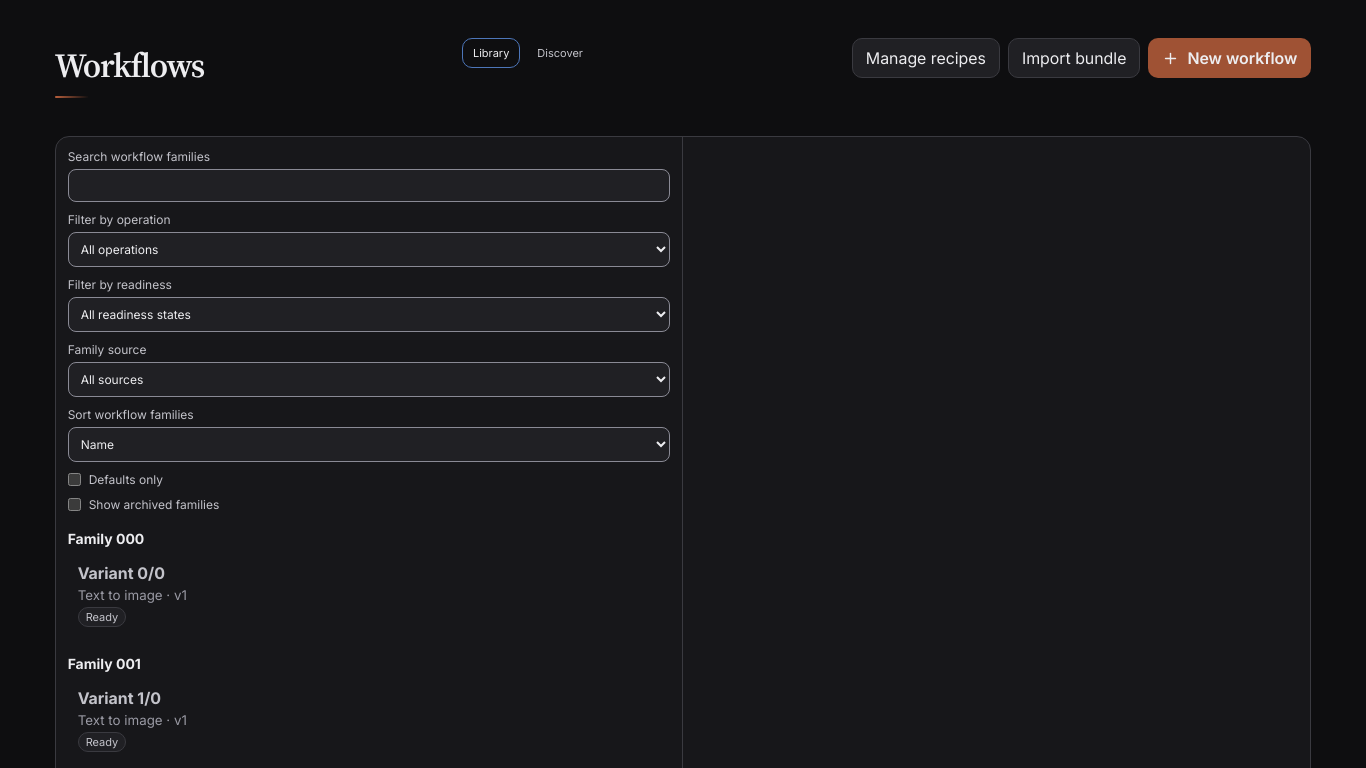
finds off-page family metadata and operation choices without fetching all workflow summaries
Expected: the heading "Family 000" is shown, [68,530,144,547]
Expected: the heading "Family 011" is not shown
Step 1. Type "Outside the first page" into the search field → {"x": 369, "y": 186}, box [68,169,670,202]
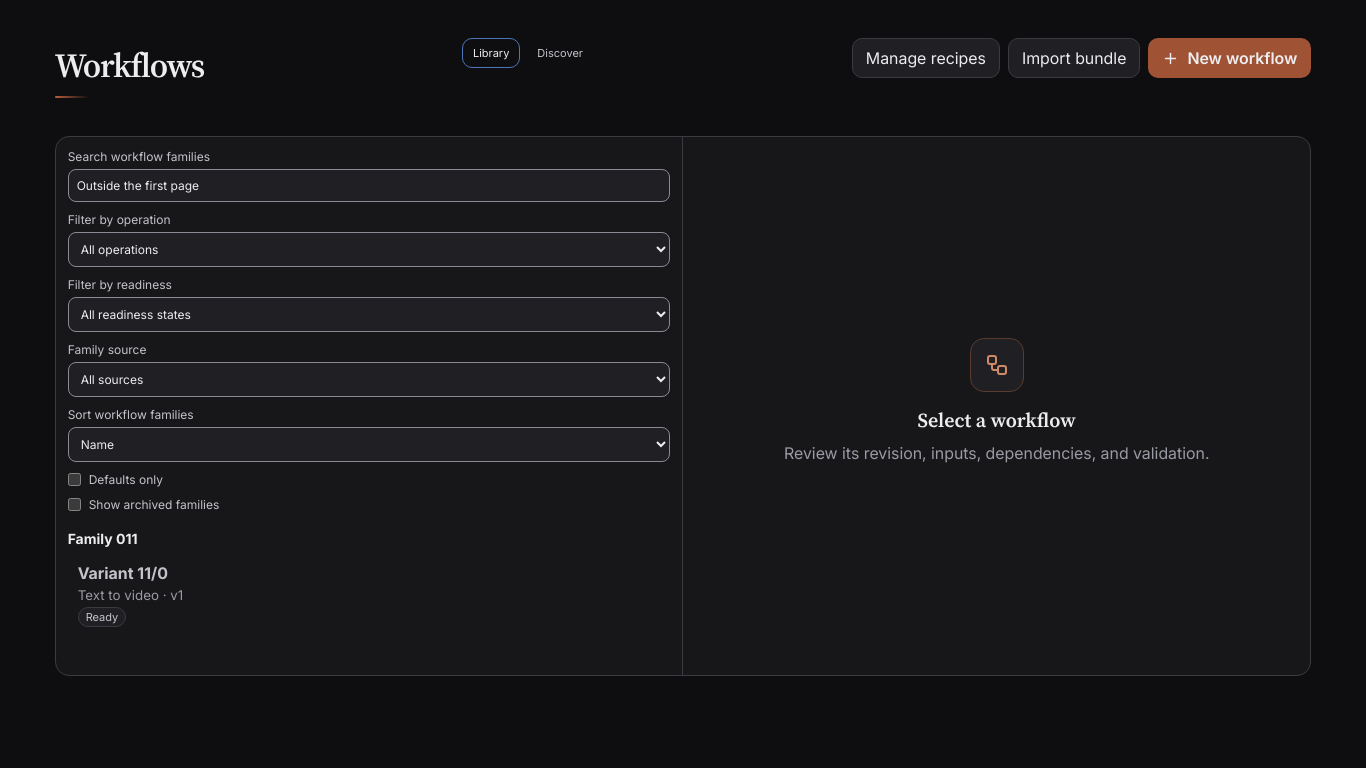
Expected: the heading "Family 011" is shown, [68,530,138,547]
